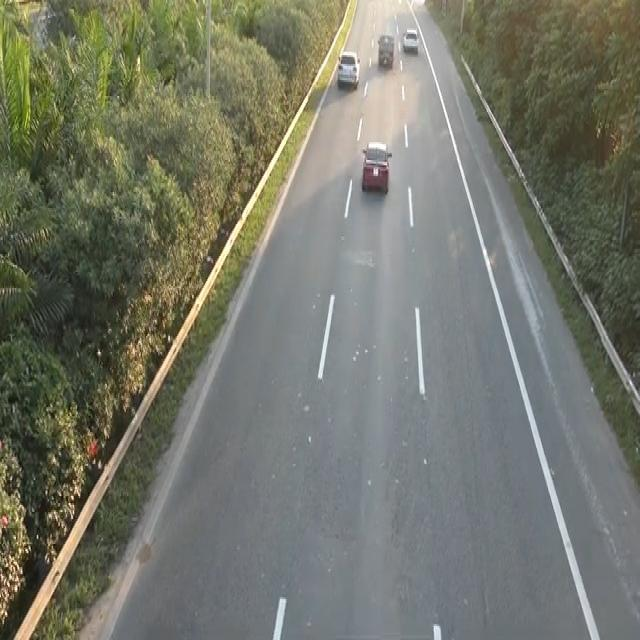bus: (358, 137, 394, 201), (336, 48, 360, 89), (401, 25, 419, 53)
minivan: (376, 30, 394, 68)
